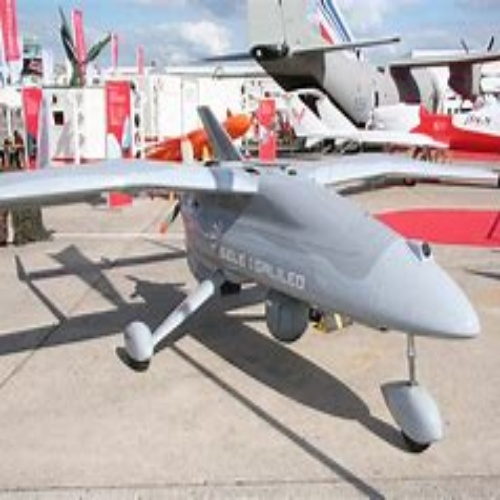uav75: (1, 111, 498, 450)
